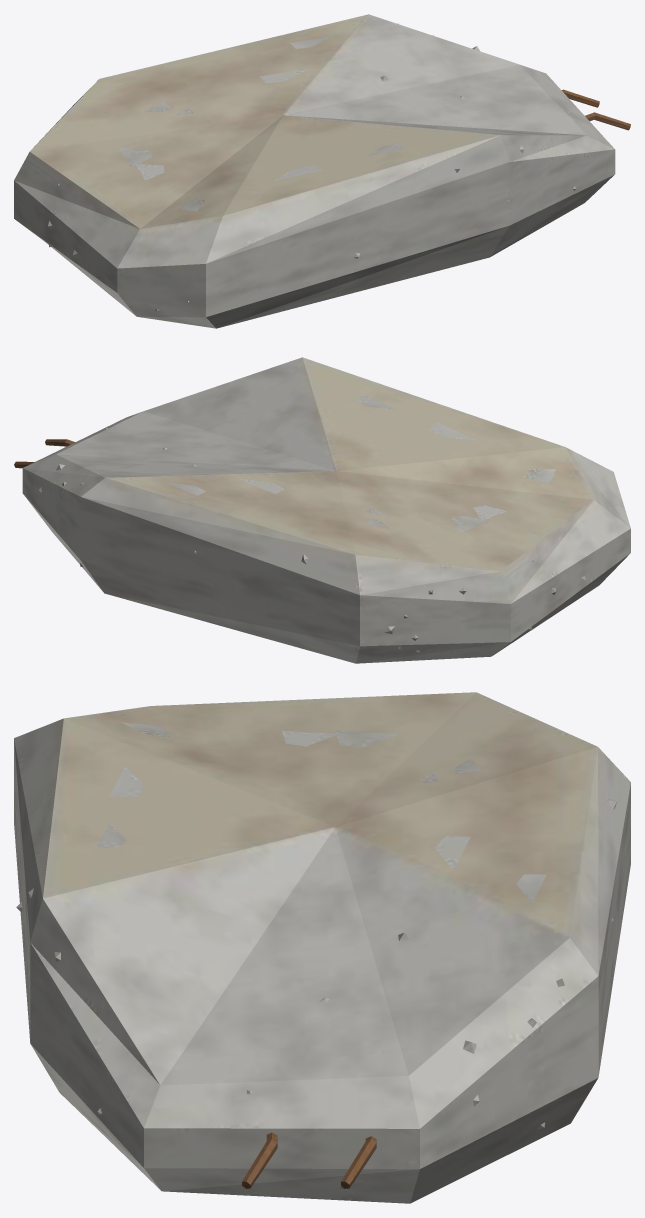
The model's file is D29_concrete_chunks_v1.glb.
The picture shows the model from 3 angles, top to bottom: view 1: azimuth 30°, elevation 25°; view 2: azimuth 150°, elevation 25°; view 3: azimuth 270°, elevation 25°; orthographic projection. The views are drawn at different scales.
Visible parts, largest first — view 1: Broken Floor Slab; view 2: Broken Floor Slab; view 3: Broken Floor Slab.
Part boxes in pixels (<box>): Broken Floor Slab: <box>14,14,630,328</box>; Broken Floor Slab: <box>14,357,630,663</box>; Broken Floor Slab: <box>14,692,630,1203</box>.
Bounding box in the file's own units: 0.6 × 0.1296 × 0.3649.
4 materials, 4 textured.
